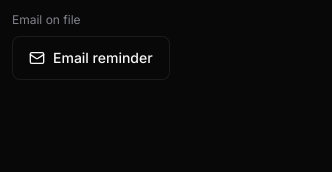
Test: Reminder action delivery state › does not treat address_limit as a successful send
Click the button at (91, 58), box [12,36,170,80]
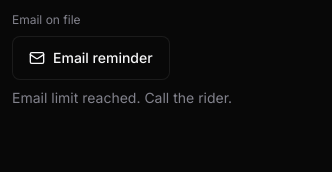
Expected: the message shows "Call the rider.", [12,89,232,106]
